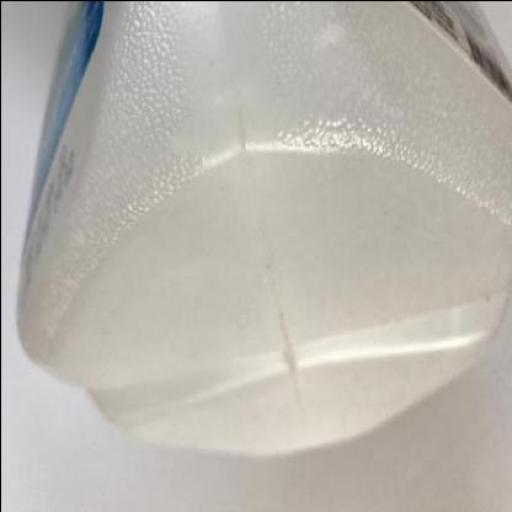plastic: (16, 1, 511, 458)
